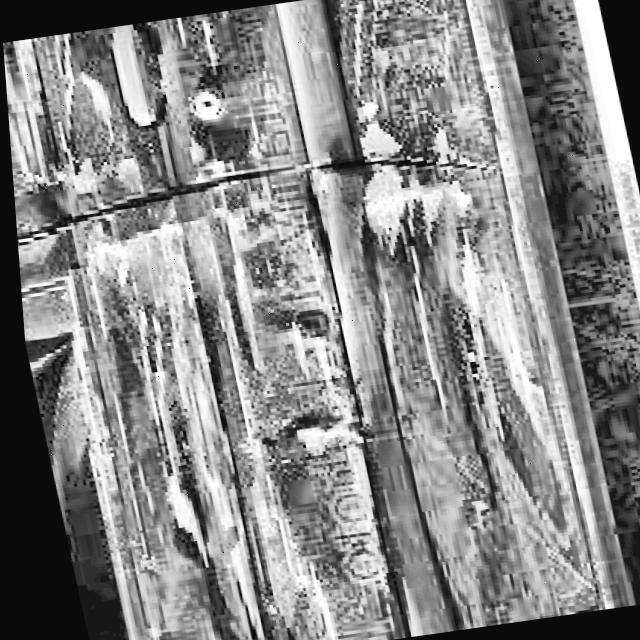door_dent: (41, 9, 368, 640), (322, 19, 601, 614)
door_scratch: (97, 199, 324, 626), (434, 225, 546, 412)
